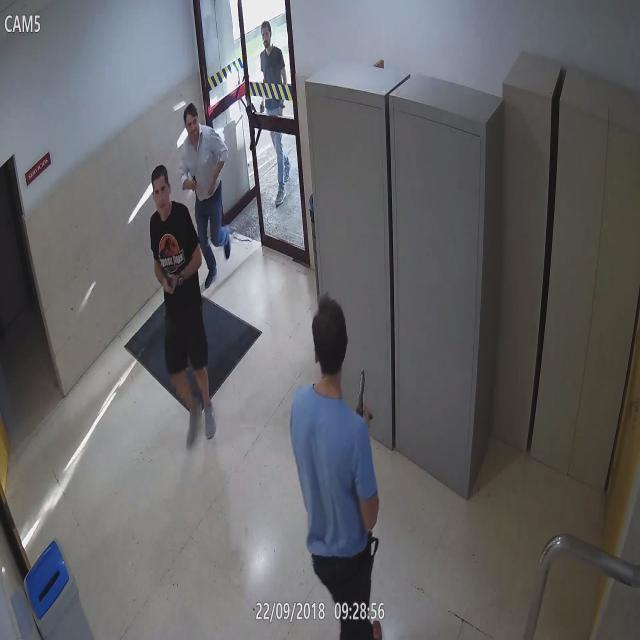weapon: (354, 365, 374, 419), (162, 272, 175, 292), (190, 178, 200, 190)
